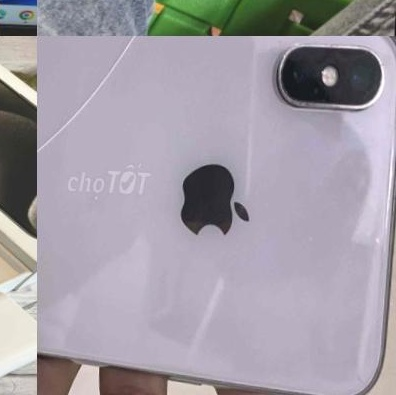physical_damage: (37, 36, 100, 340), (96, 36, 147, 90)
scratch: (277, 46, 291, 67)
